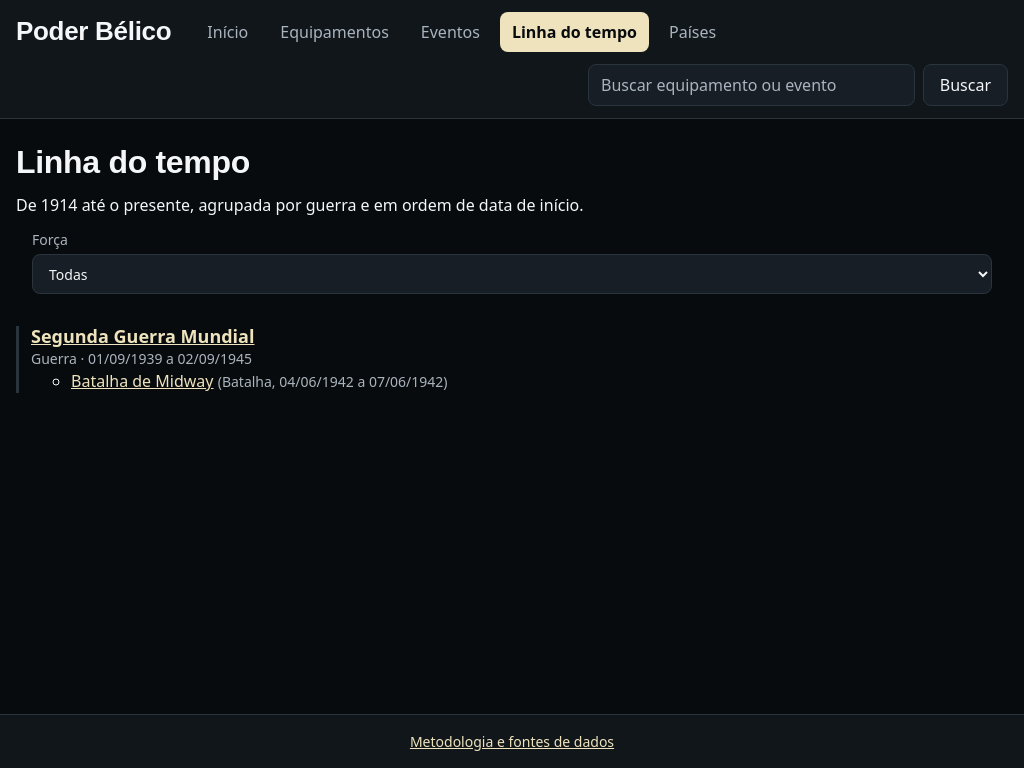
Test: filtro de força na linha do tempo vai para a URL e é levado ao abrir um país
Expected: the heading "Segunda Guerra Mundial" is shown, [31,324,254,348]
Select "Marinha" in the dropdown labelled "Força" at point(512, 274), box [32,254,992,294]
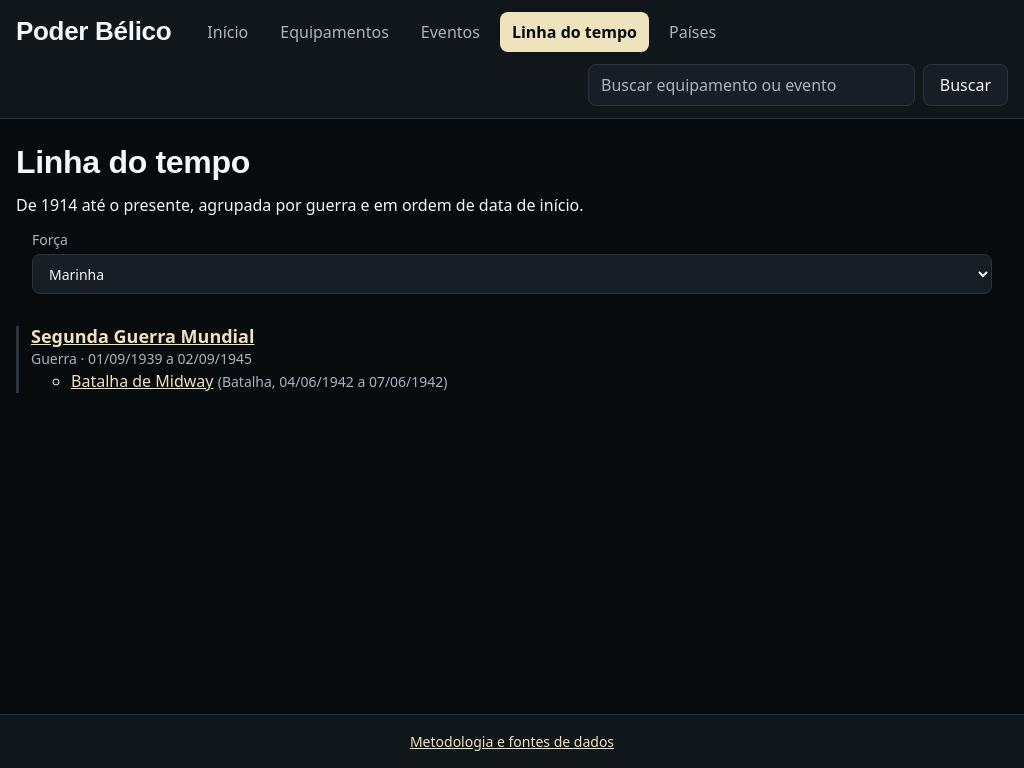
Click the link "Países" at point(693, 32), box [669,21,716,43]
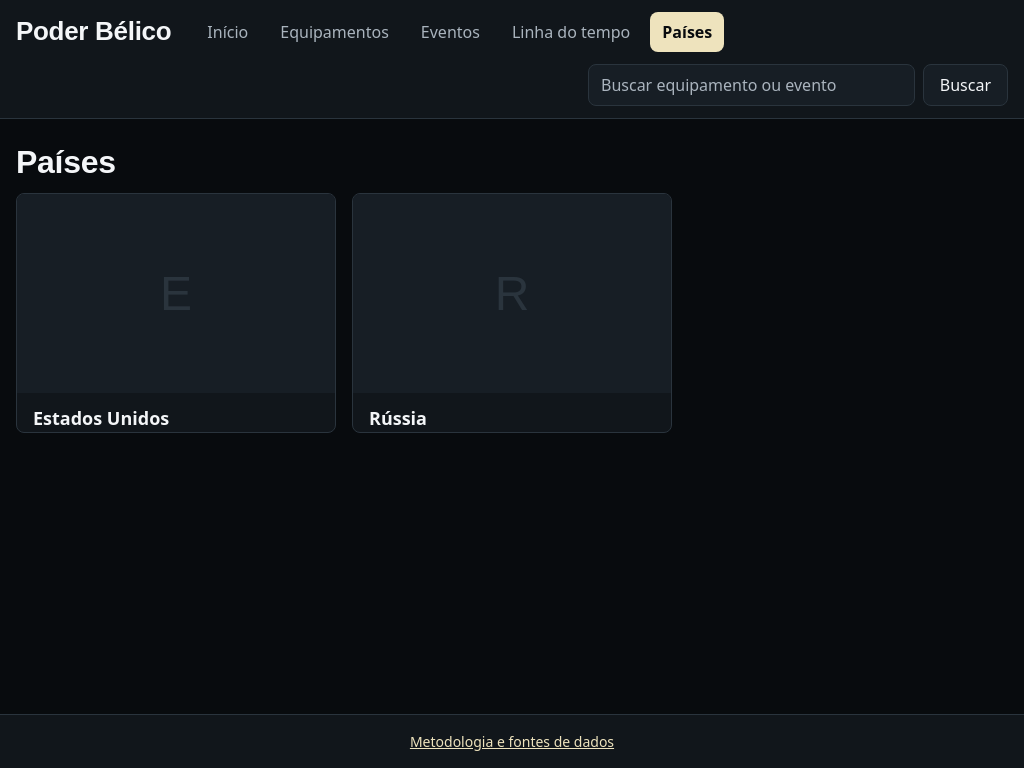
Click the link "Rússia" at point(398, 418), box [369,406,427,430]
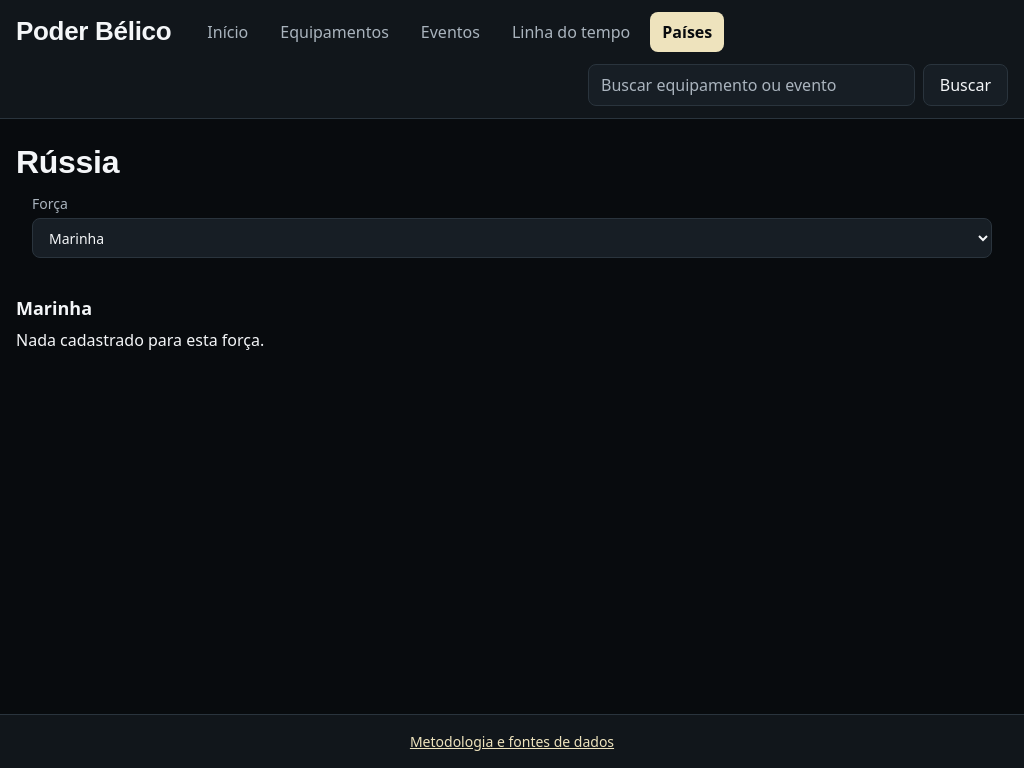
Expected: the heading "Rússia" is shown, [16,144,119,180]
Expected: the dropdown labelled "Força" shows "Marinha", [32,218,992,258]
Expected: the heading "Marinha" is shown, [16,296,92,320]
